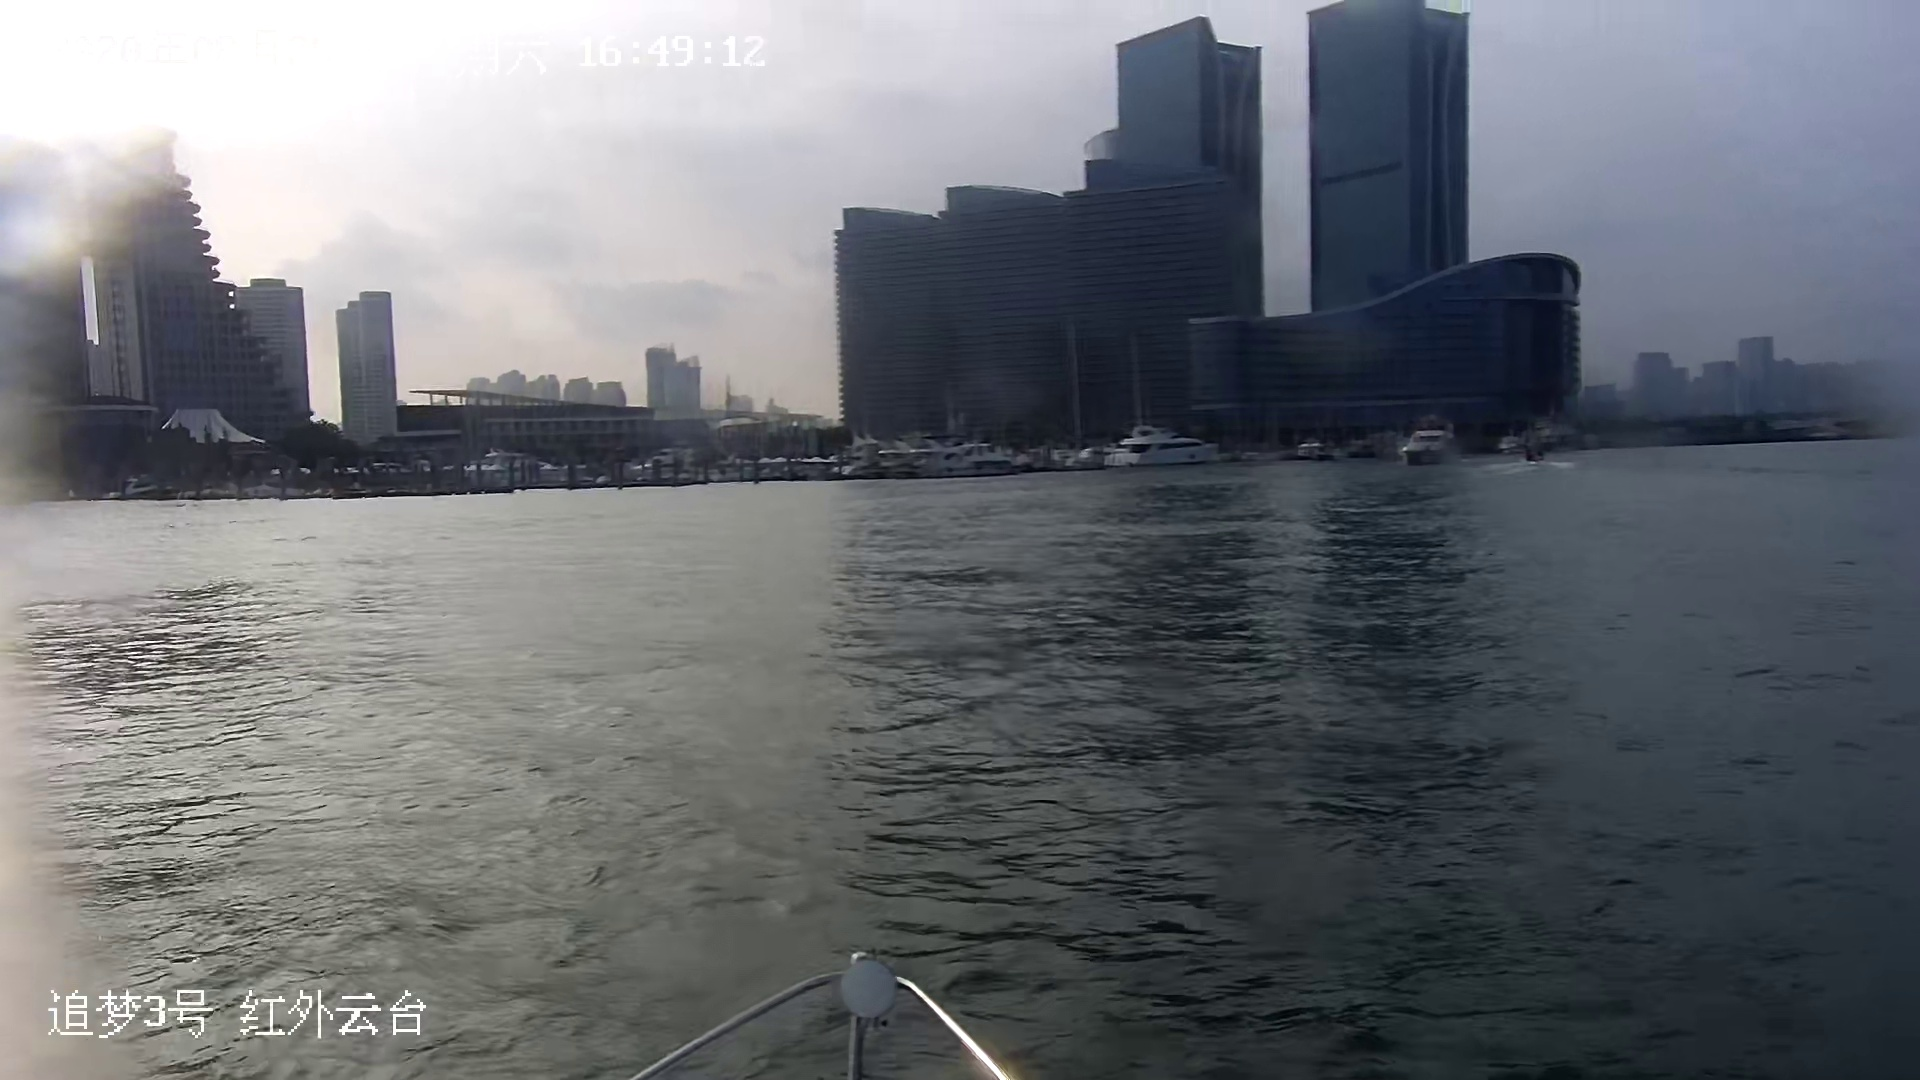barrier: (890, 443, 1052, 477), (1104, 425, 1224, 471), (468, 448, 582, 491), (641, 443, 756, 484), (1396, 429, 1461, 464), (1296, 435, 1325, 462), (1494, 436, 1526, 458)
coast: (0, 3, 1919, 502)
this: (621, 951, 1013, 1079)
